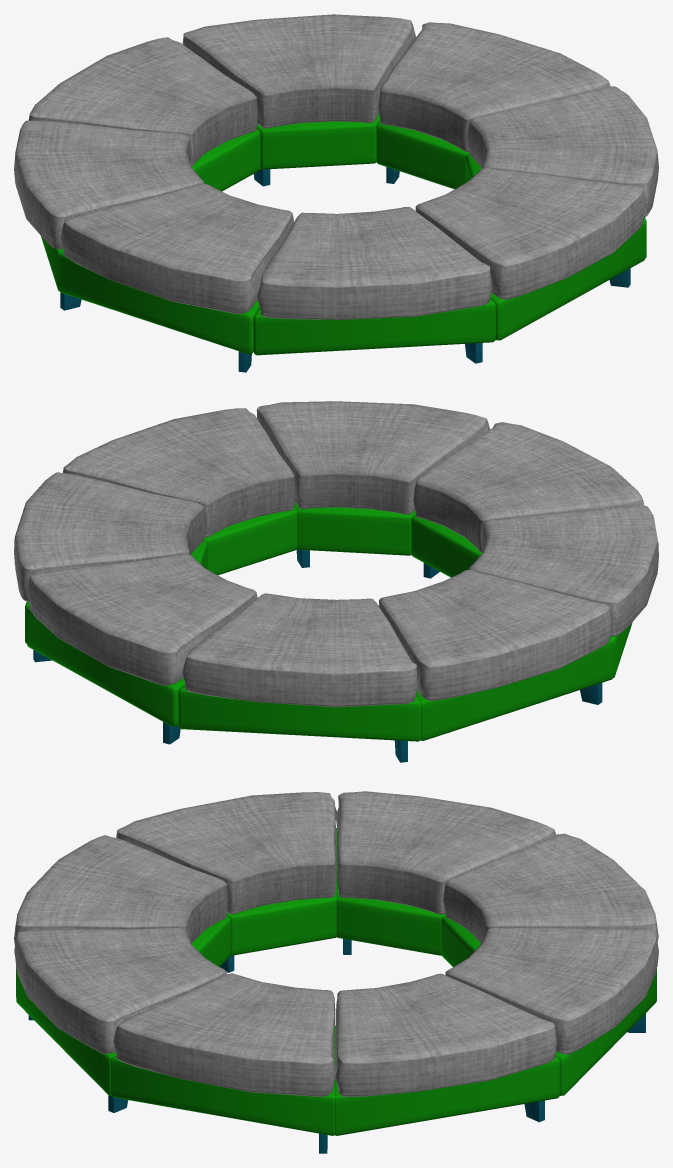
File: Sofa 7.FBX
3 views of the same model, one above another, from view 1: azimuth 30°, elevation 25°; view 2: azimuth 150°, elevation 25°; view 3: azimuth 270°, elevation 25° (orthographic).
Parts seen in each view (by area): view 1: Sofa 7; view 2: Sofa 7; view 3: Sofa 7.
Part boxes in pixels (<box>): Sofa 7: <box>14,14,658,372</box>; Sofa 7: <box>14,401,658,762</box>; Sofa 7: <box>14,791,658,1153</box>.
Bounding box in the file's own units: 3.46 × 3.46 × 0.5889.
